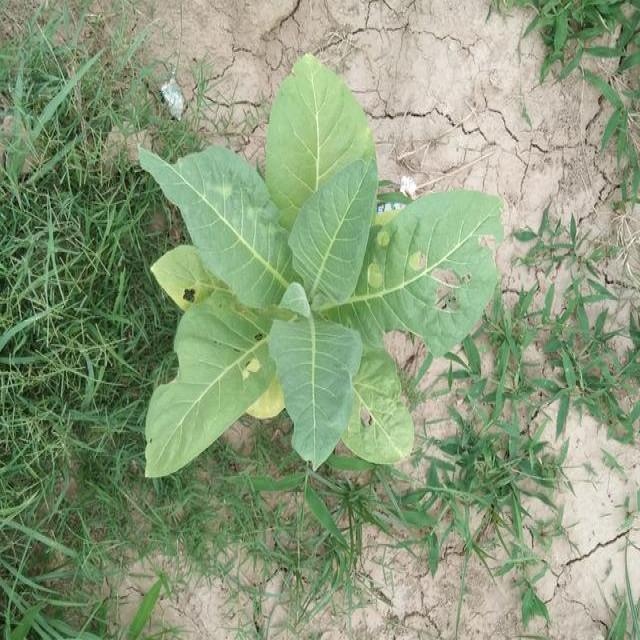crop: (129, 55, 505, 497)
